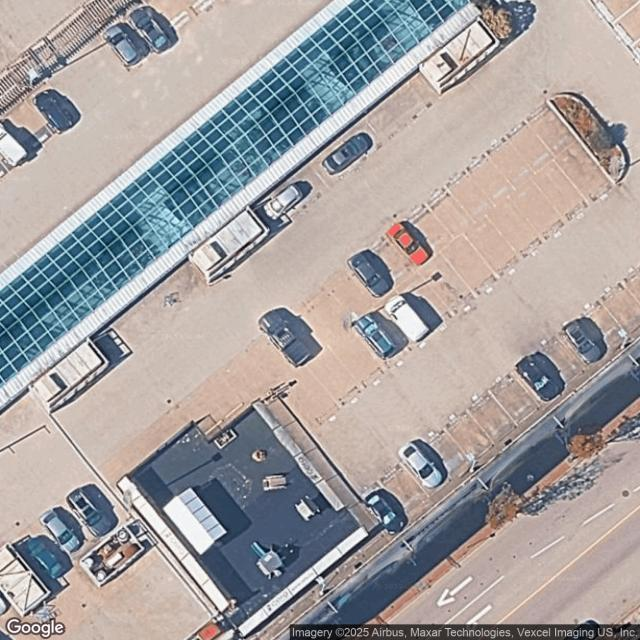car: (257, 306, 315, 371), (68, 484, 116, 541), (364, 482, 412, 537), (127, 2, 176, 54), (399, 439, 447, 489), (32, 85, 78, 136), (517, 352, 564, 401), (323, 132, 373, 175), (41, 509, 85, 557), (259, 180, 308, 223), (387, 221, 433, 265), (105, 22, 147, 70), (386, 296, 429, 342), (563, 318, 605, 363), (27, 535, 68, 581), (354, 315, 393, 359), (352, 254, 393, 295)
lot_boundary: (0, 0, 639, 639)
